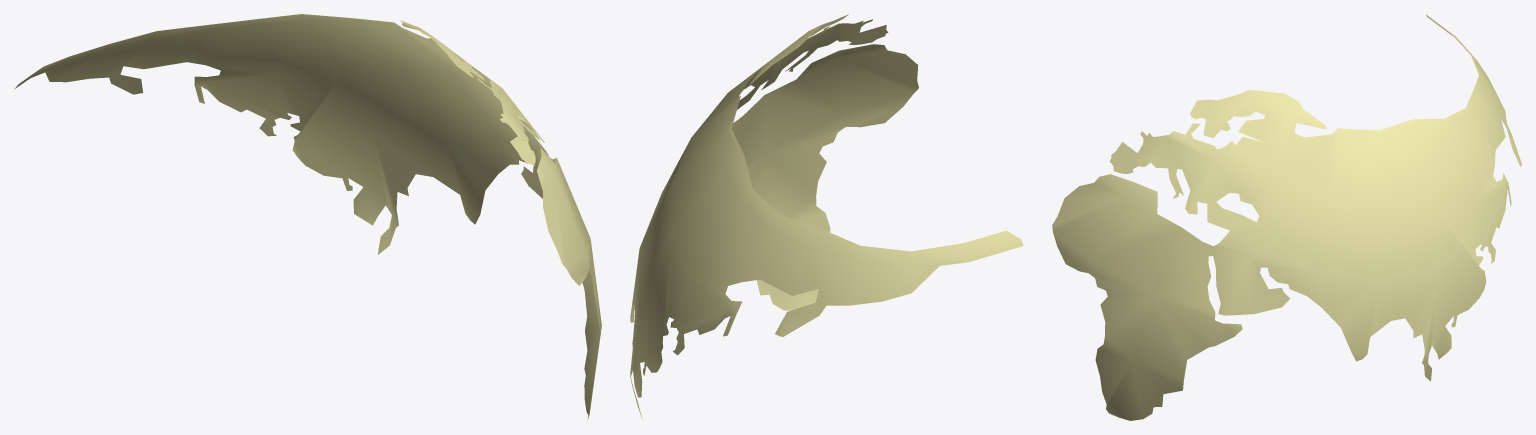
The model's file is original-14.obj.
3 views of the same model, side by side, from view 1: azimuth 30°, elevation 25°; view 2: azimuth 150°, elevation 25°; view 3: azimuth 270°, elevation 25° (orthographic). The views are drawn at different scales.
Visible parts, largest first — view 1: mesh5/mesh5-geometry#mesh5-geometry; view 2: mesh5/mesh5-geometry#mesh5-geometry; view 3: mesh5/mesh5-geometry#mesh5-geometry.
Boxes of the visible parts, x1,y1,x2,y2 form: mesh5/mesh5-geometry#mesh5-geometry: (14,14,601,419); mesh5/mesh5-geometry#mesh5-geometry: (630,14,1023,417); mesh5/mesh5-geometry#mesh5-geometry: (1052,14,1521,420).
Size of the model in its own units: 0.881 by 0.6752 by 0.9821.
